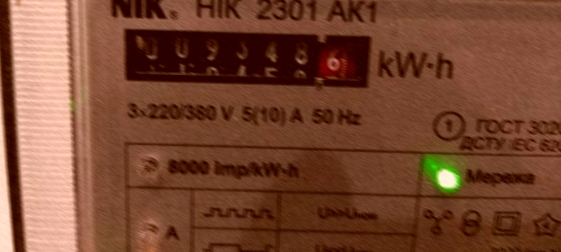0: (142, 35, 159, 62), (173, 33, 188, 60)
3: (234, 36, 249, 61)
4: (261, 35, 280, 65)
6: (324, 45, 342, 74)
8: (293, 39, 309, 67)
9: (204, 37, 219, 65)
screen: (104, 14, 385, 100)
